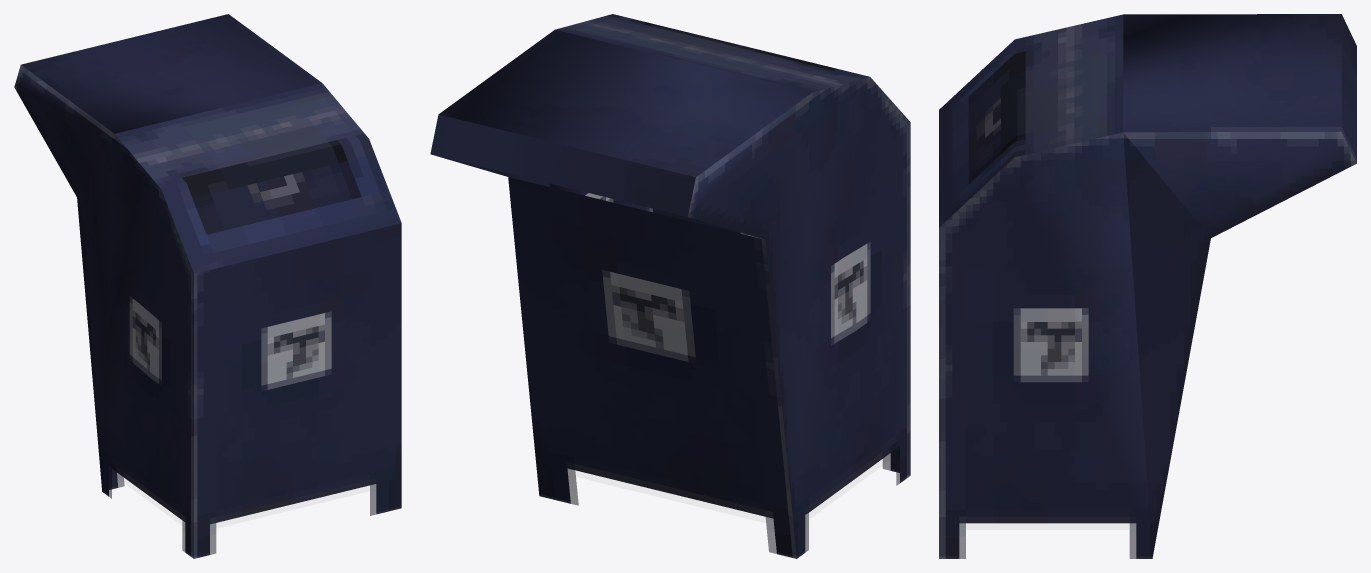
Rendered from Environment - Prop - mailbox - PMmailbox.glb.
3 views of the same model, side by side, from view 1: azimuth 30°, elevation 25°; view 2: azimuth 150°, elevation 25°; view 3: azimuth 270°, elevation 25° (orthographic). The views are drawn at different scales.
Visible parts, largest first — view 1: PMMAILBOX; view 2: PMMAILBOX; view 3: PMMAILBOX.
Part boxes in pixels (box(x1,y1,x2,y2)): PMMAILBOX: box(14, 14, 401, 558); PMMAILBOX: box(430, 14, 910, 558); PMMAILBOX: box(939, 14, 1356, 558).
Bounding box in the file's own units: 3.63 × 6.13 × 5.44.
Materials: 1 (1 with a texture image).
